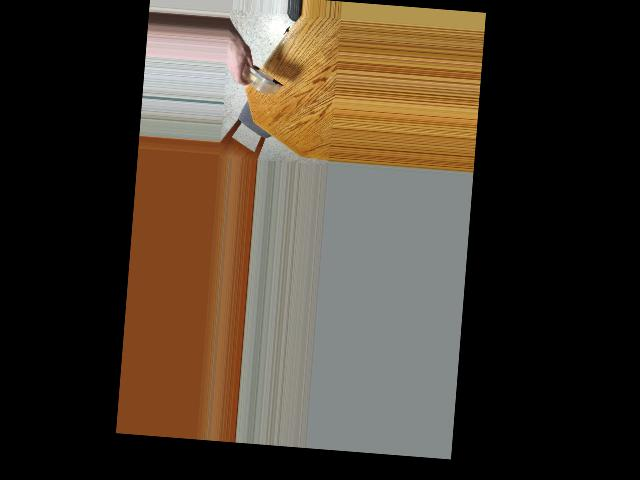cheese: (238, 64, 283, 95)
